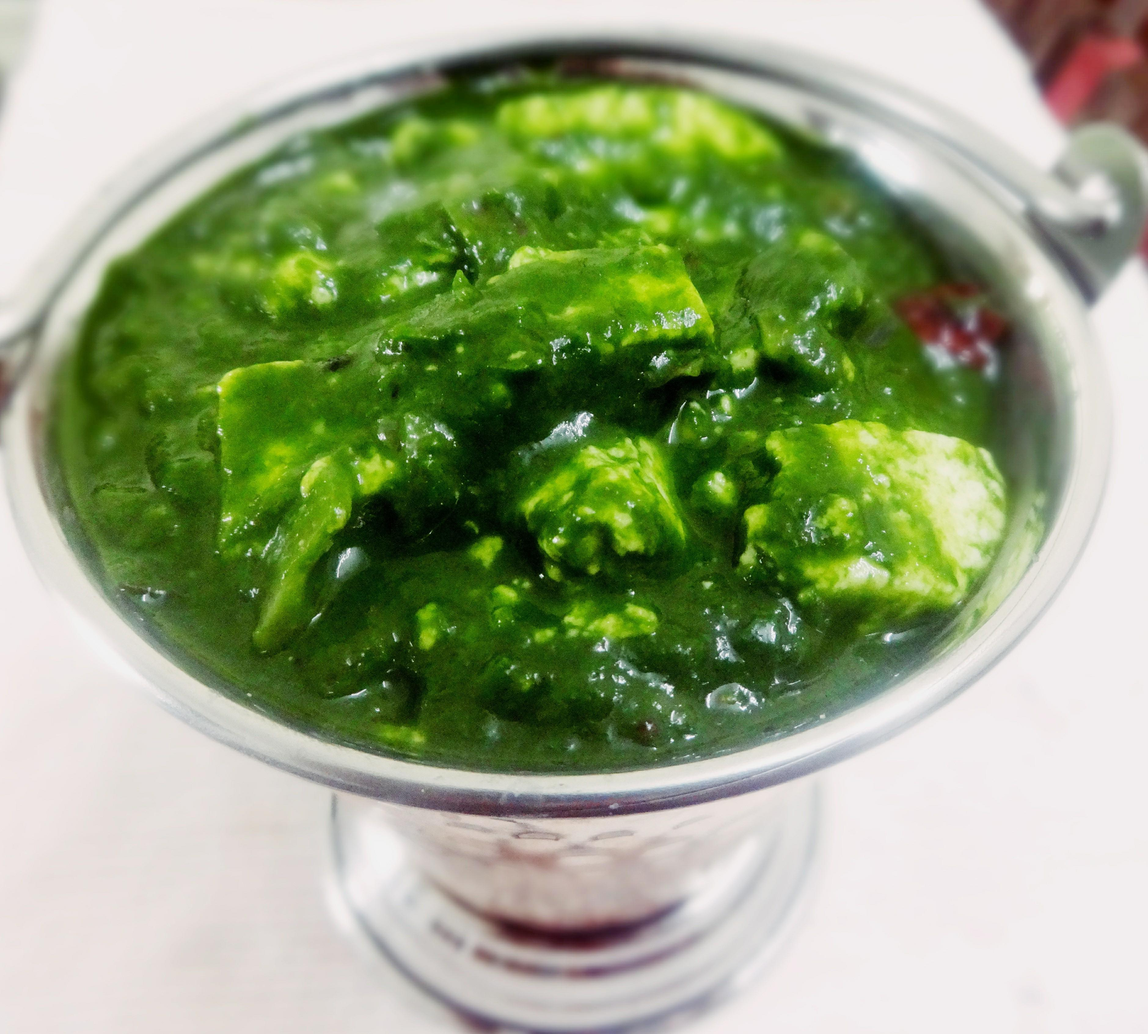PalakPaneer: (71, 64, 1021, 773)
